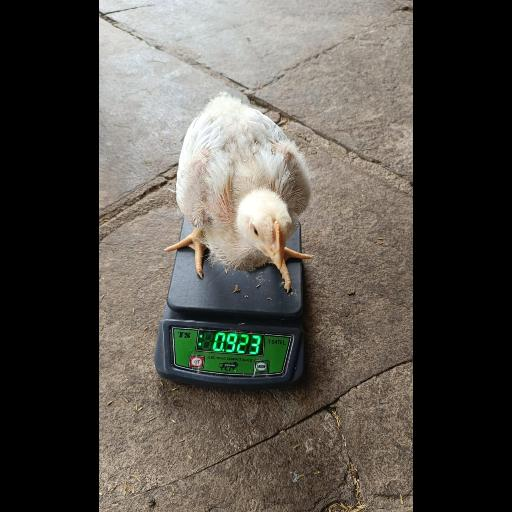chick: (165, 95, 313, 290)
